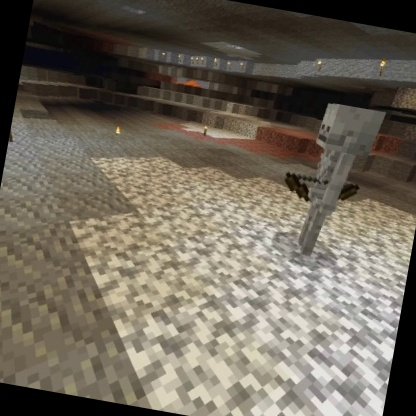skeleton: (268, 92, 392, 269)
